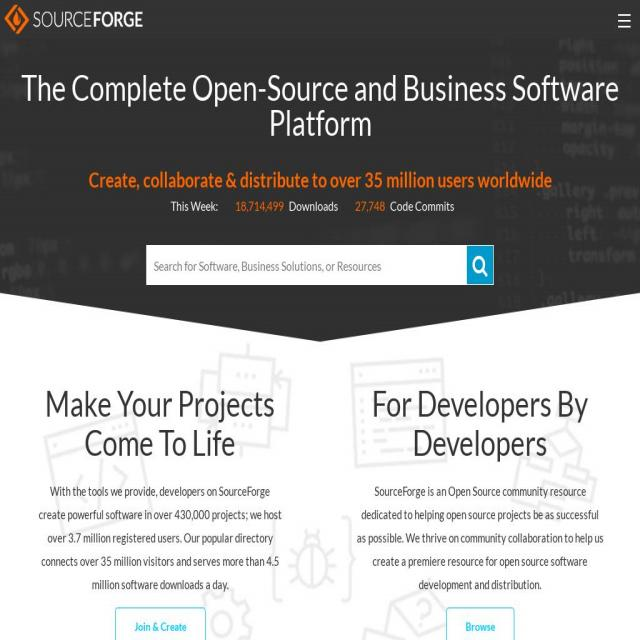options: (614, 8, 638, 40)
search: (139, 240, 499, 285)
